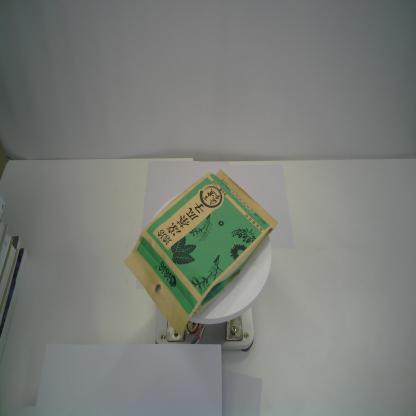Dried Food: (122, 167, 278, 338)
